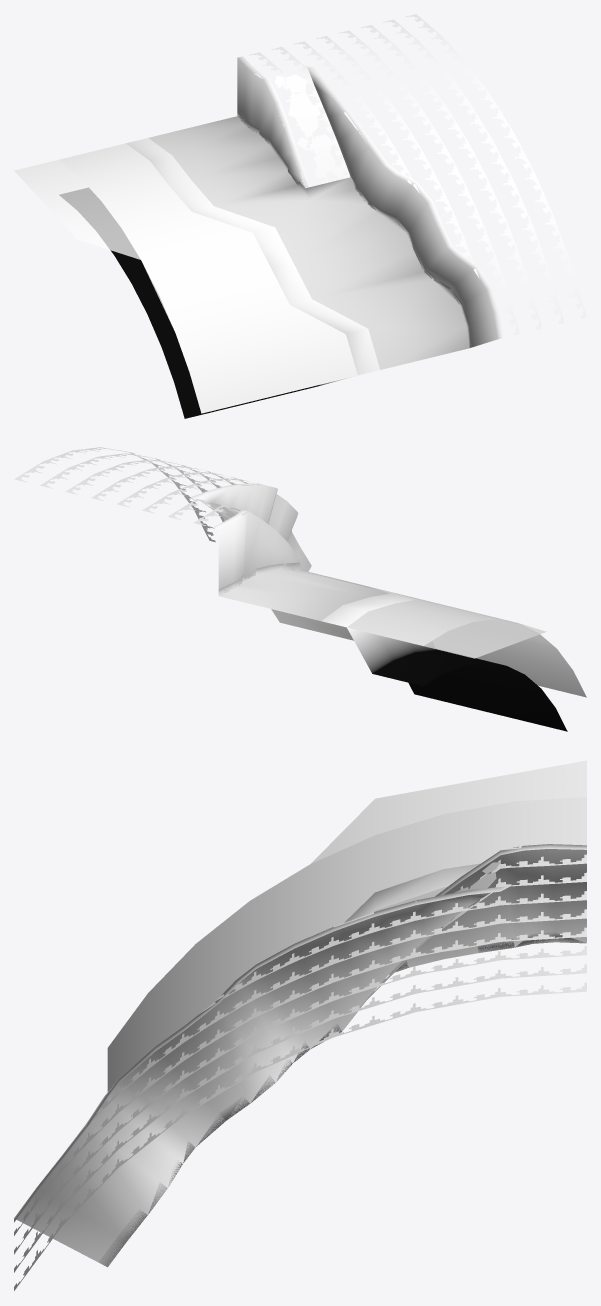
The model's file is grd_Msw_w_S_1.dae.
3 renders of one model, top to bottom at view 1: azimuth 30°, elevation 25°; view 2: azimuth 150°, elevation 25°; view 3: azimuth 270°, elevation 25°, orthographic. The views are drawn at different scales.
Visible parts, largest first — view 1: grd_Msw_w_S_1; view 2: grd_Msw_w_S_1; view 3: grd_Msw_w_S_1.
Part boxes in pixels (left/top/right/bottom): grd_Msw_w_S_1: left=14, top=14, right=586, bottom=418; grd_Msw_w_S_1: left=14, top=447, right=586, bottom=731; grd_Msw_w_S_1: left=14, top=760, right=586, bottom=1290.
Size of the model in its own units: 576 by 308 by 423.
7 materials, 1 textured.
